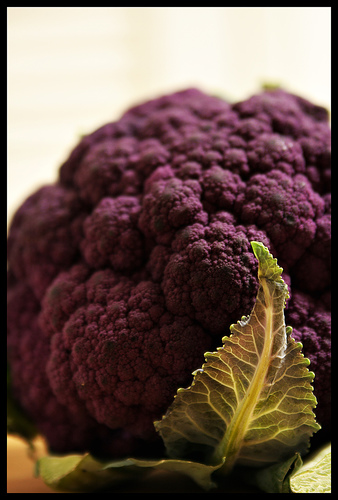cauliflower: (0, 82, 335, 460)
